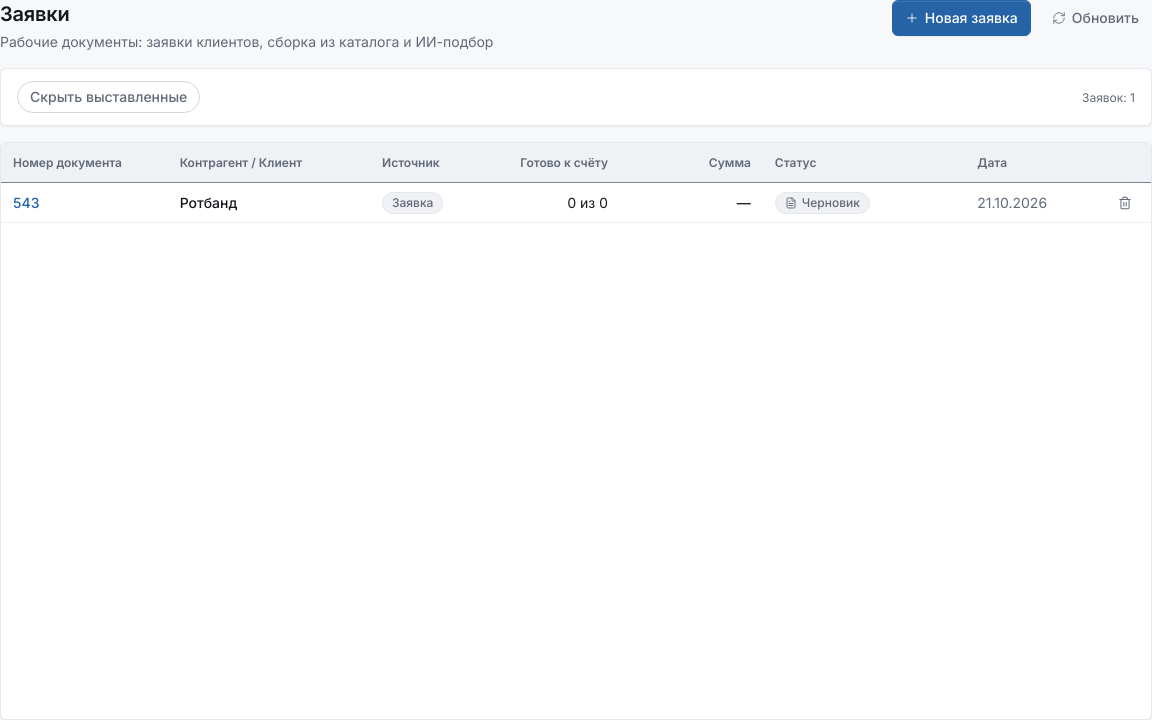
Test: Работа с пустыми запросами и удаление › удаление из списка не открывает строку и убирает её только после подтверждения
Click the button named "Удалить заявку 543".
click(1125, 202)  # box [1111,188,1139,216]
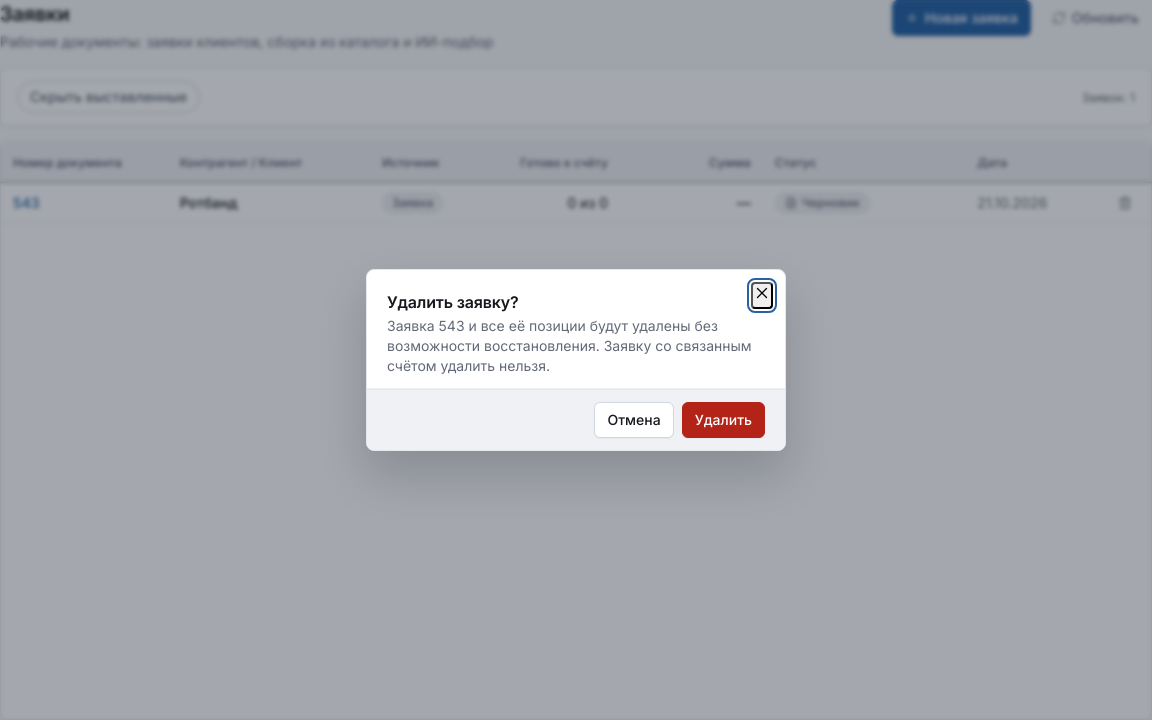
Click the button "Удалить".
click(723, 420)  # box [682,402,765,438]
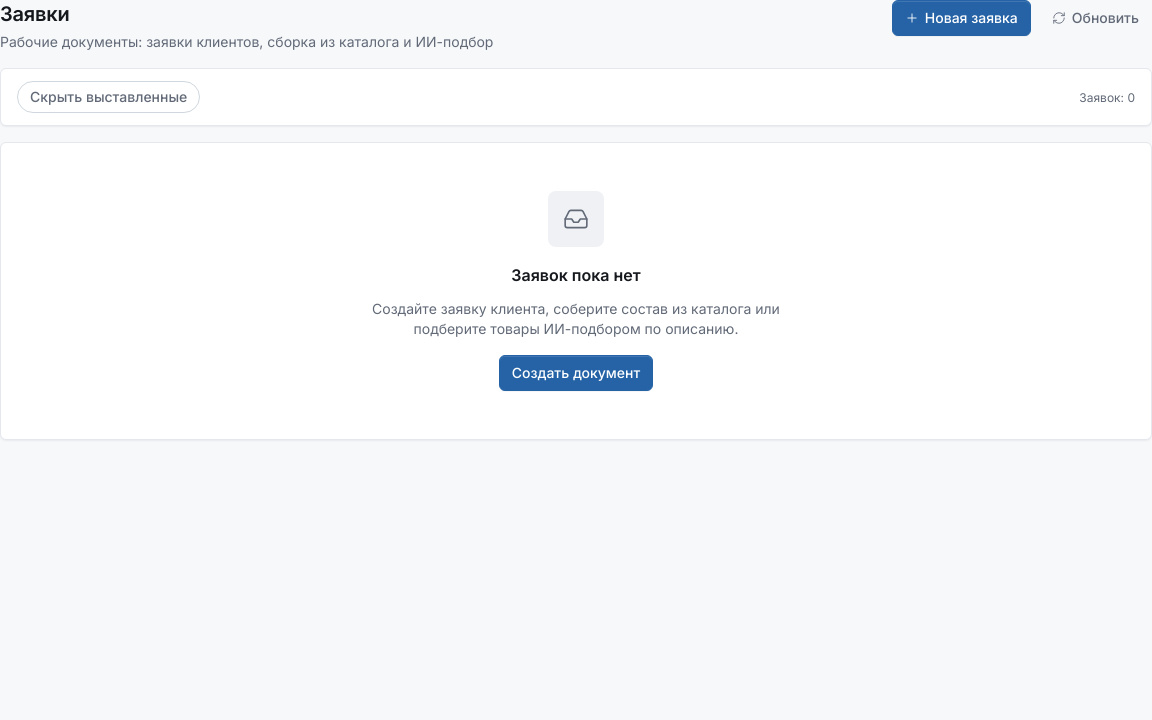
Result: the link "543" is gone
Result: the heading "Заявок пока нет" is shown at [511,263,641,287]
